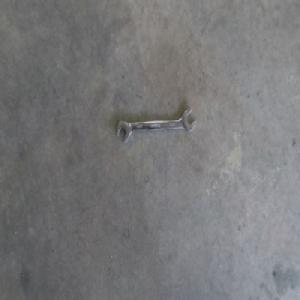Wrench: (114, 114, 199, 151)
